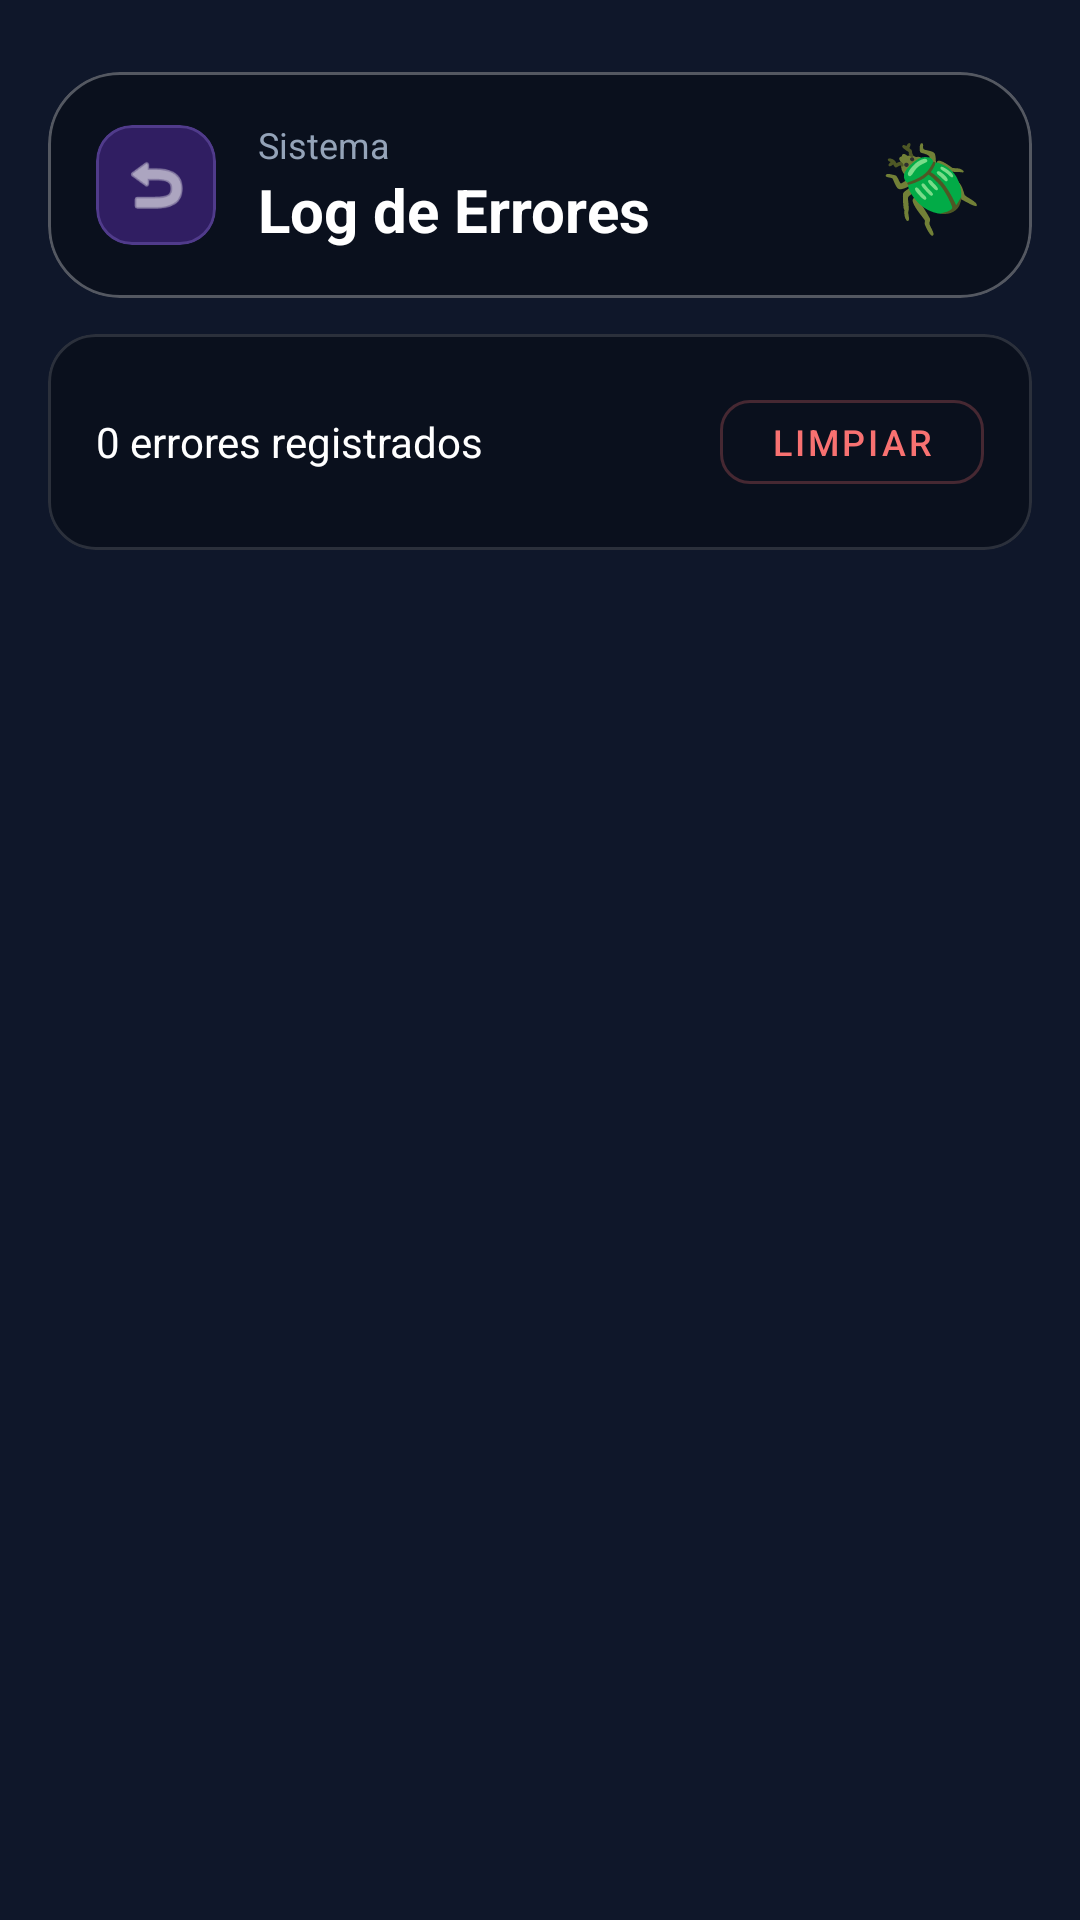

Icons on this 1080 × 1920 Android screen, each with its box as [x1=x1, y1=y1, x2=x2, y2=y2]:
revert: [x1=96, y1=125, x2=216, y2=245]
